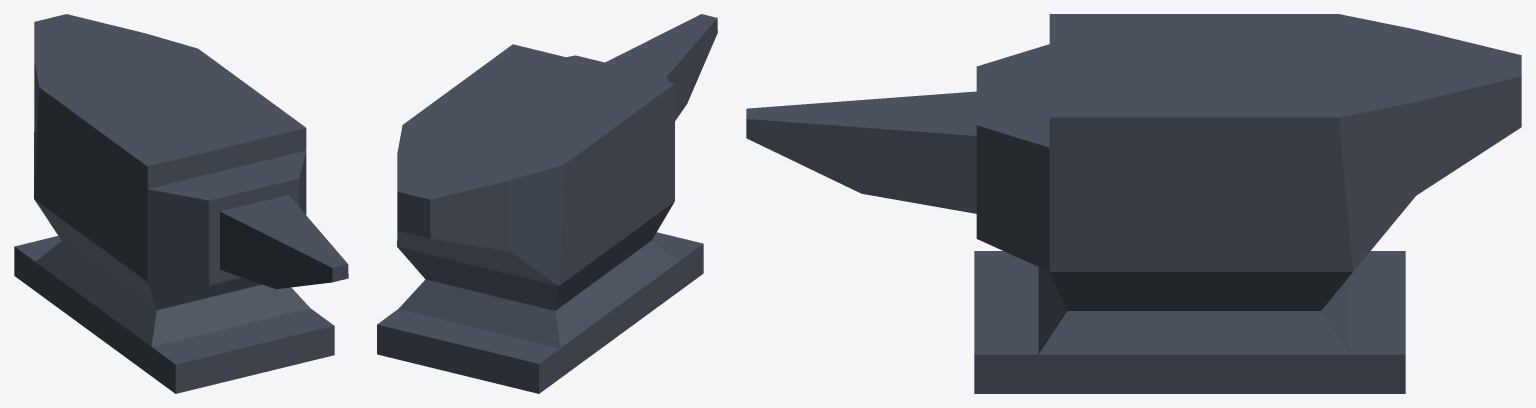
Rendered from anvil.fbx.
3 views of the same model, side by side, from view 1: azimuth 30°, elevation 25°; view 2: azimuth 150°, elevation 25°; view 3: azimuth 270°, elevation 25° (orthographic). The views are drawn at different scales.
Parts seen in each view (by area): view 1: Cube; view 2: Cube; view 3: Cube.
Boxes of the visible parts, <box> form: Cube: <box>14,14,348,393</box>; Cube: <box>377,14,717,393</box>; Cube: <box>746,14,1521,393</box>.
Bounding box in the file's own units: 115 × 143 × 364.
